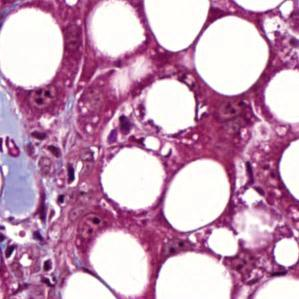steatosis: (195, 16, 274, 101), (165, 156, 230, 233), (88, 228, 158, 299)
